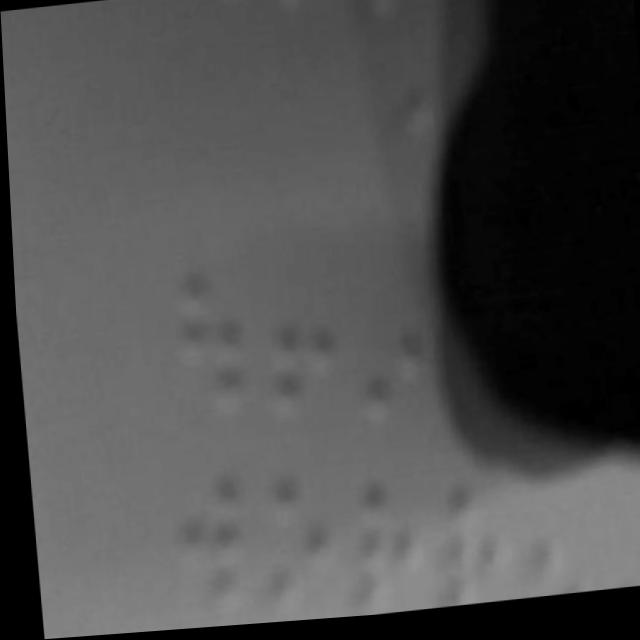braiile: (240, 458, 332, 625), (342, 271, 433, 435), (250, 268, 336, 434), (166, 263, 250, 432), (336, 466, 421, 622), (161, 461, 246, 615), (420, 482, 509, 614), (509, 489, 588, 606), (589, 479, 640, 598)
